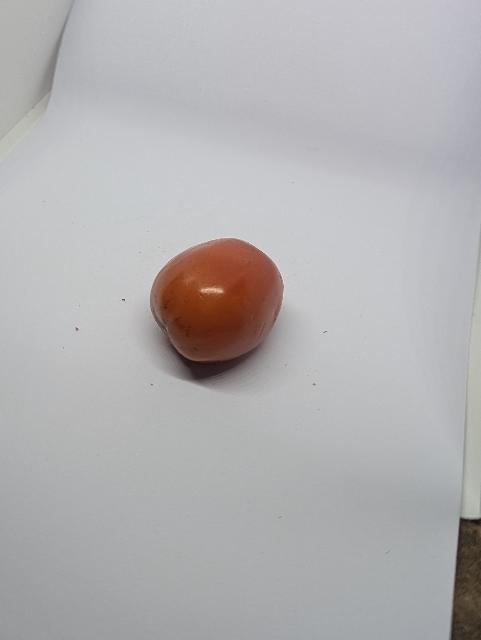red: (146, 230, 292, 368)
